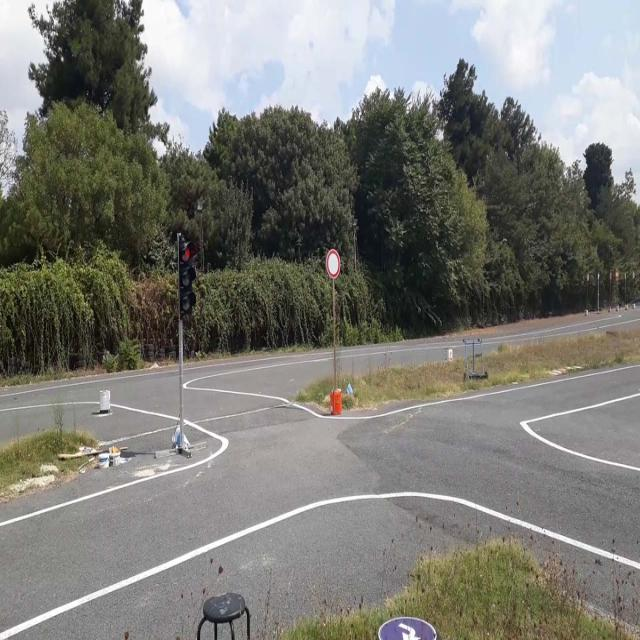kirmizi: (179, 241, 193, 312)
